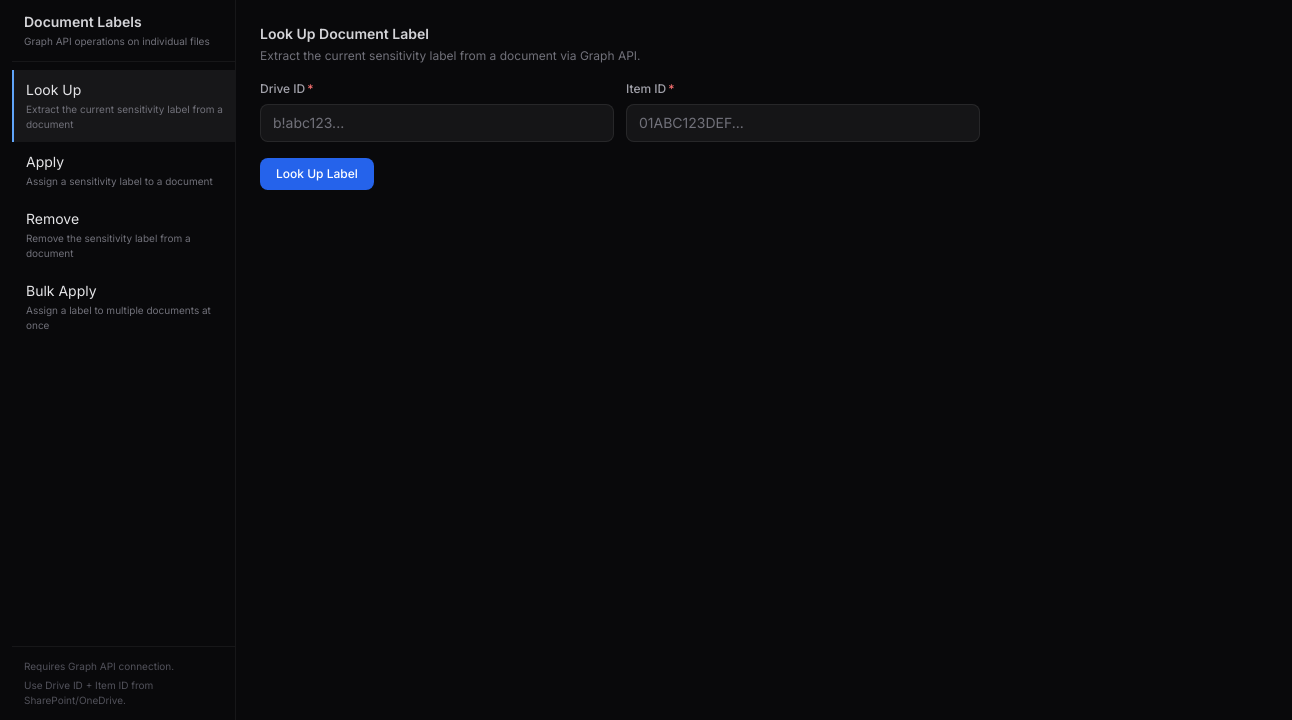
Scenario: DocumentsPage › Look Up shows validation error when fields empty
Click the button "Look Up Label": x=317, y=174 260,158 -> 374,190
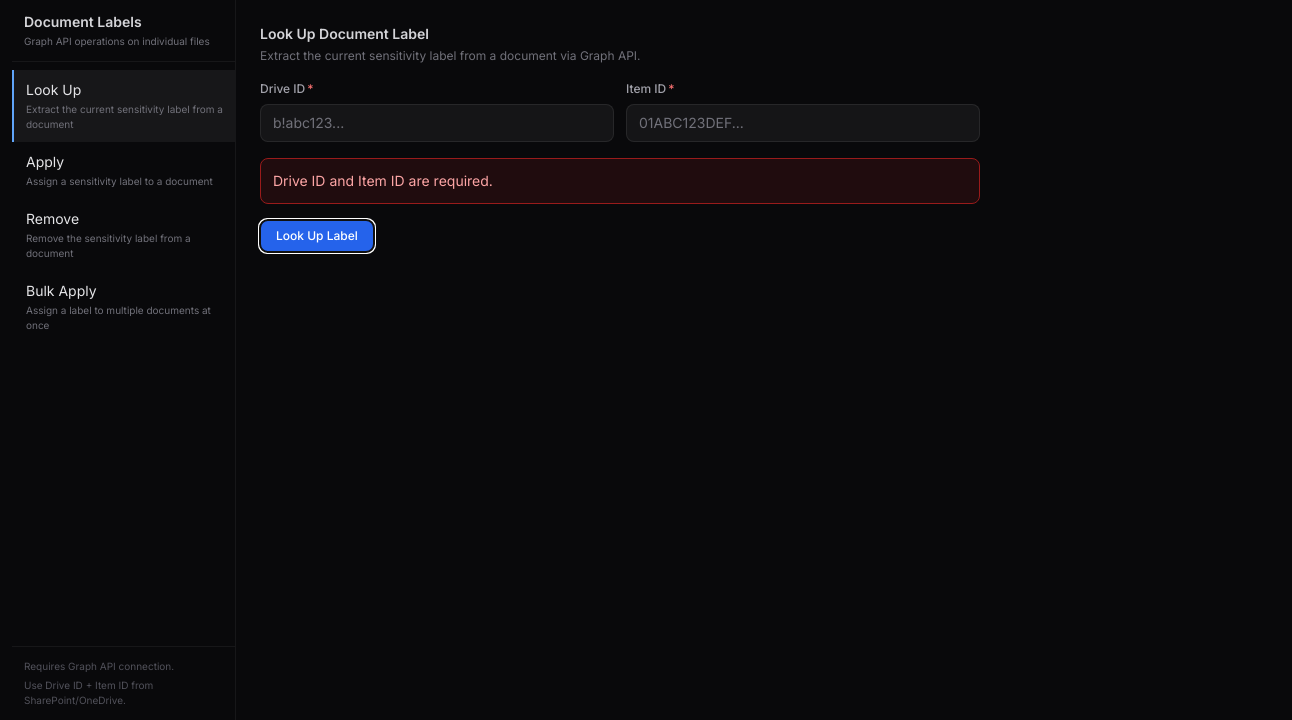
Now the text "Drive ID and Item ID are required." is shown, box 260,158 -> 980,204
